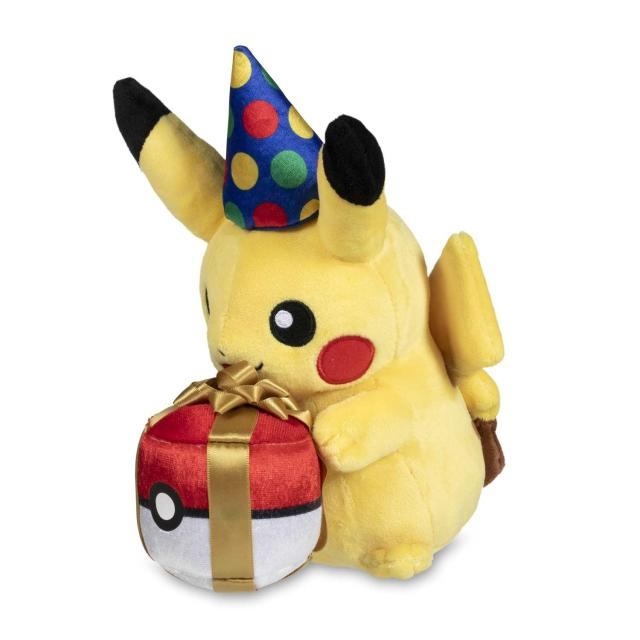pikachu: (113, 80, 505, 580)
